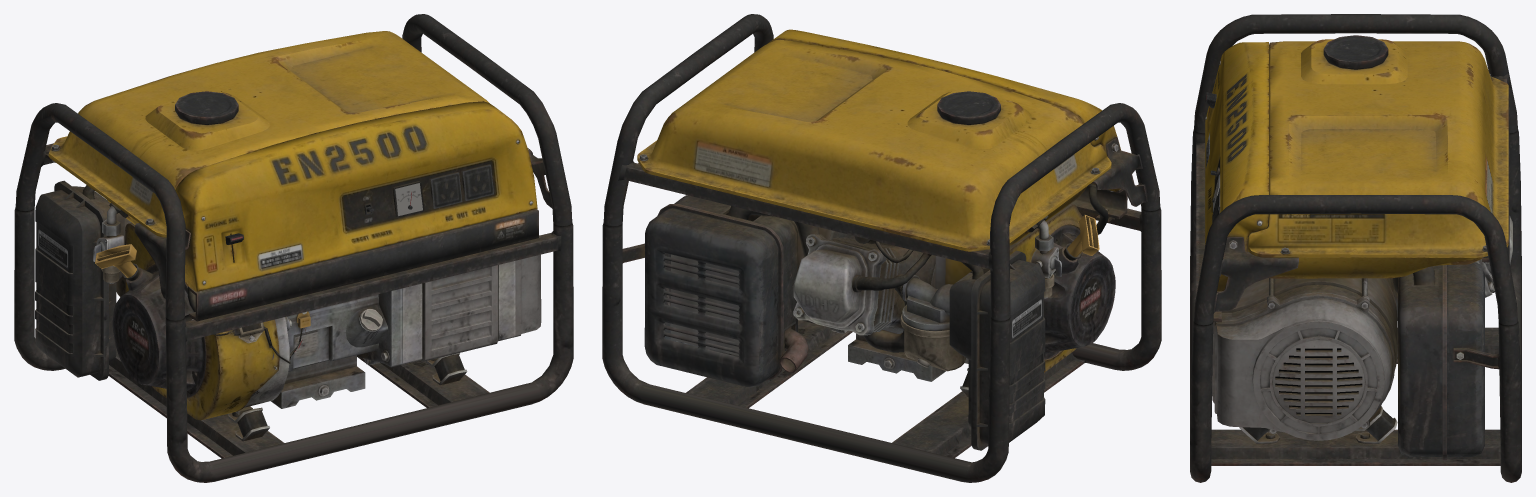
Rendered from portable_generator.glb.
3 renders of one model, left to right at view 1: azimuth 30°, elevation 25°; view 2: azimuth 150°, elevation 25°; view 3: azimuth 270°, elevation 25°, orthographic.
Parts seen in each view (by area): view 1: portable_generator; view 2: portable_generator; view 3: portable_generator.
Part boxes in pixels (x1=…): portable_generator: x1=14, y1=14, x2=573, y2=482; portable_generator: x1=602, y1=14, x2=1161, y2=482; portable_generator: x1=1190, y1=14, x2=1521, y2=482.
Bounding box in the file's own units: 0.8183 × 0.577 × 0.564.
2 materials, 2 textured.
